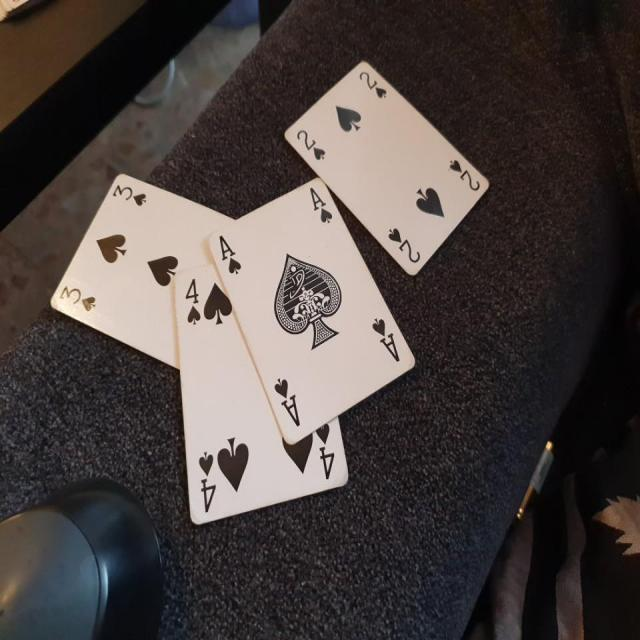2 Spades: (278, 40, 494, 281)
3 Spades: (43, 164, 185, 374)
4 Spades: (175, 267, 359, 537)
A Spades: (204, 170, 428, 442)
